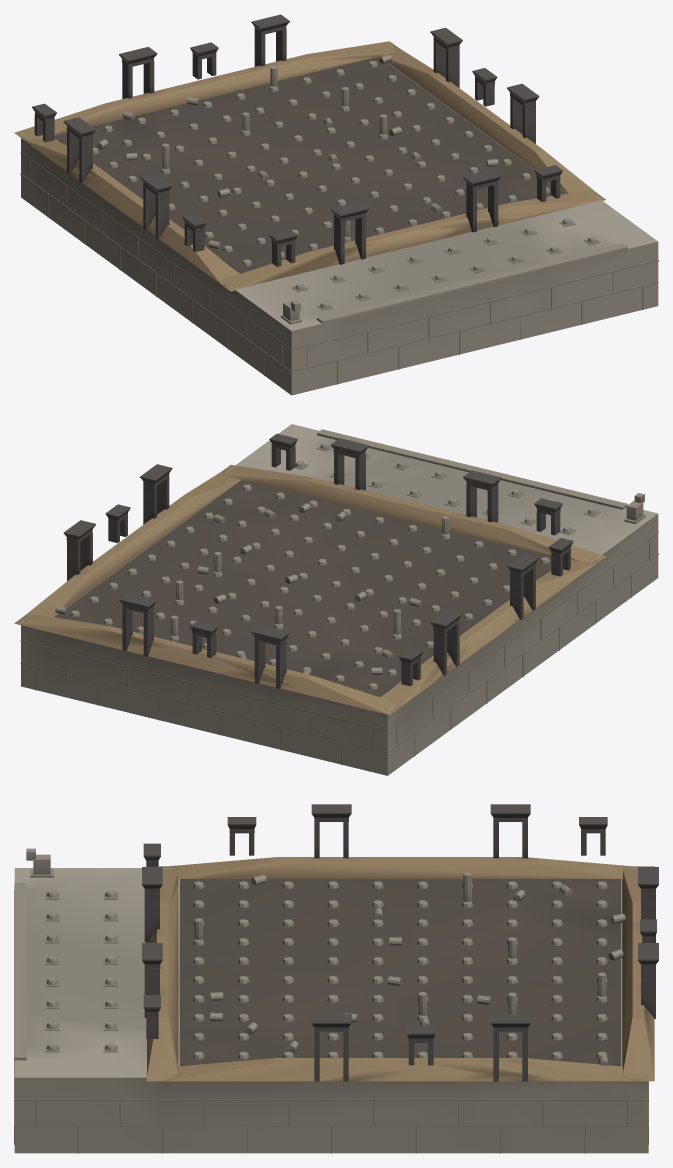
Rendered from hundred-columns-ruin.glb.
The picture shows the model from 3 angles, top to bottom: view 1: azimuth 30°, elevation 25°; view 2: azimuth 150°, elevation 25°; view 3: azimuth 270°, elevation 25°; orthographic projection. The views are drawn at different scales.
Visible parts, largest first — view 1: p1_columns, p0_terrace; view 2: p1_columns, p0_terrace; view 3: p1_columns, p0_terrace.
Boxes of the visible parts, left/top/right/bottom form: p1_columns: left=14, top=14, right=605, bottom=324; p0_terrace: left=20, top=43, right=658, bottom=395; p1_columns: left=14, top=433, right=645, bottom=714; p0_terrace: left=20, top=424, right=658, bottom=775; p1_columns: left=26, top=804, right=658, bottom=1081; p0_terrace: left=14, top=868, right=648, bottom=1153.
Bounding box in the file's own units: 75.04 × 21.66 × 93.6.
